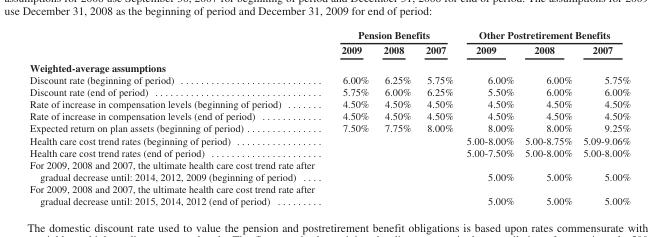table: (29, 28, 630, 206)
table column: (29, 28, 327, 206), (459, 28, 518, 206), (518, 28, 577, 206), (577, 28, 630, 206), (327, 28, 375, 206), (375, 28, 417, 206), (417, 28, 459, 206)
table column header: (29, 28, 630, 58)
table projected row header: (29, 58, 630, 73)
table row: (29, 158, 630, 182), (29, 182, 630, 206), (29, 42, 630, 58), (29, 58, 630, 73), (29, 28, 630, 42), (29, 133, 630, 146), (29, 73, 630, 85), (29, 85, 630, 97), (29, 97, 630, 109), (29, 109, 630, 121), (29, 121, 630, 133), (29, 146, 630, 158)
table spanning cell: (459, 28, 630, 42), (327, 28, 459, 42)
